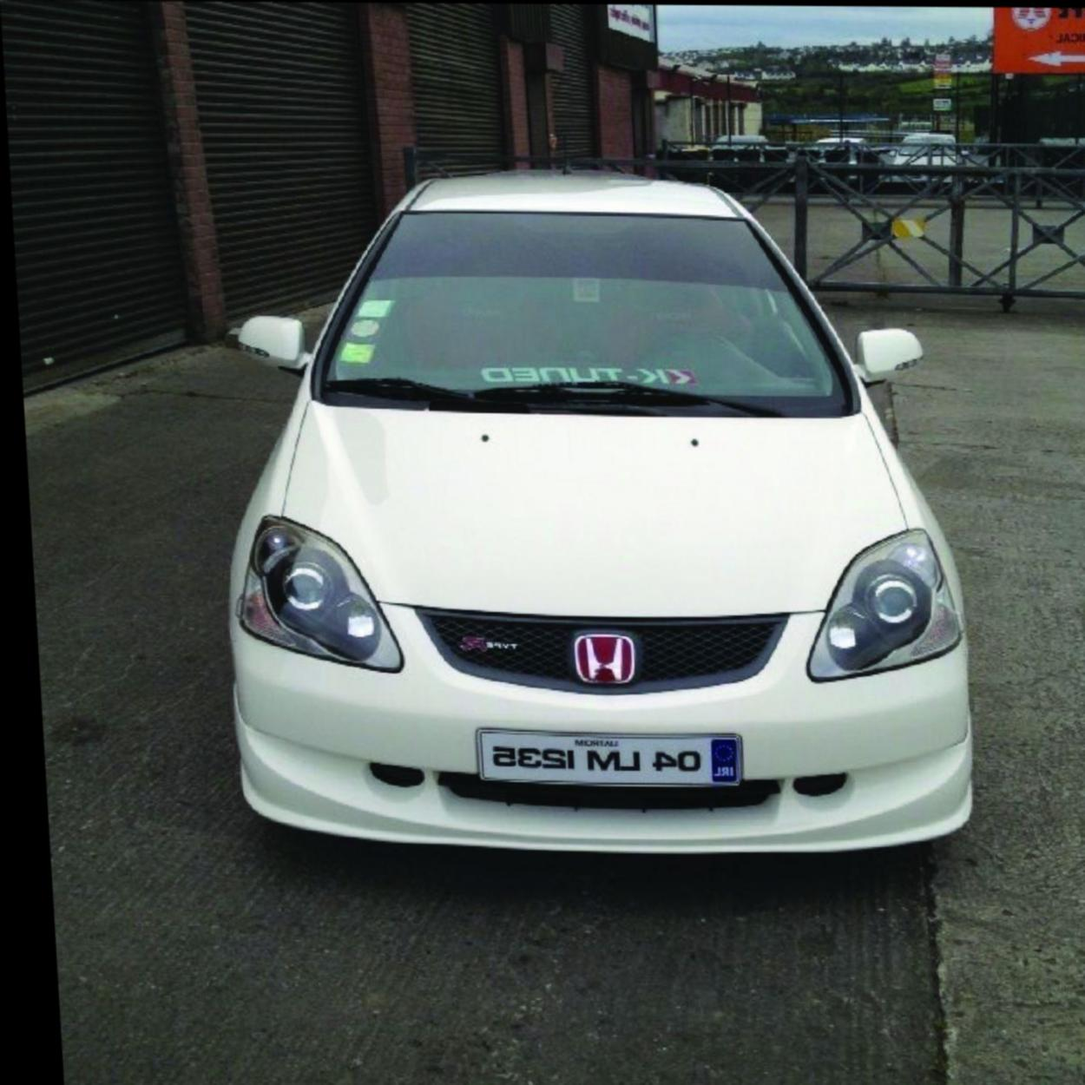License_Plate: (471, 724, 745, 795)
